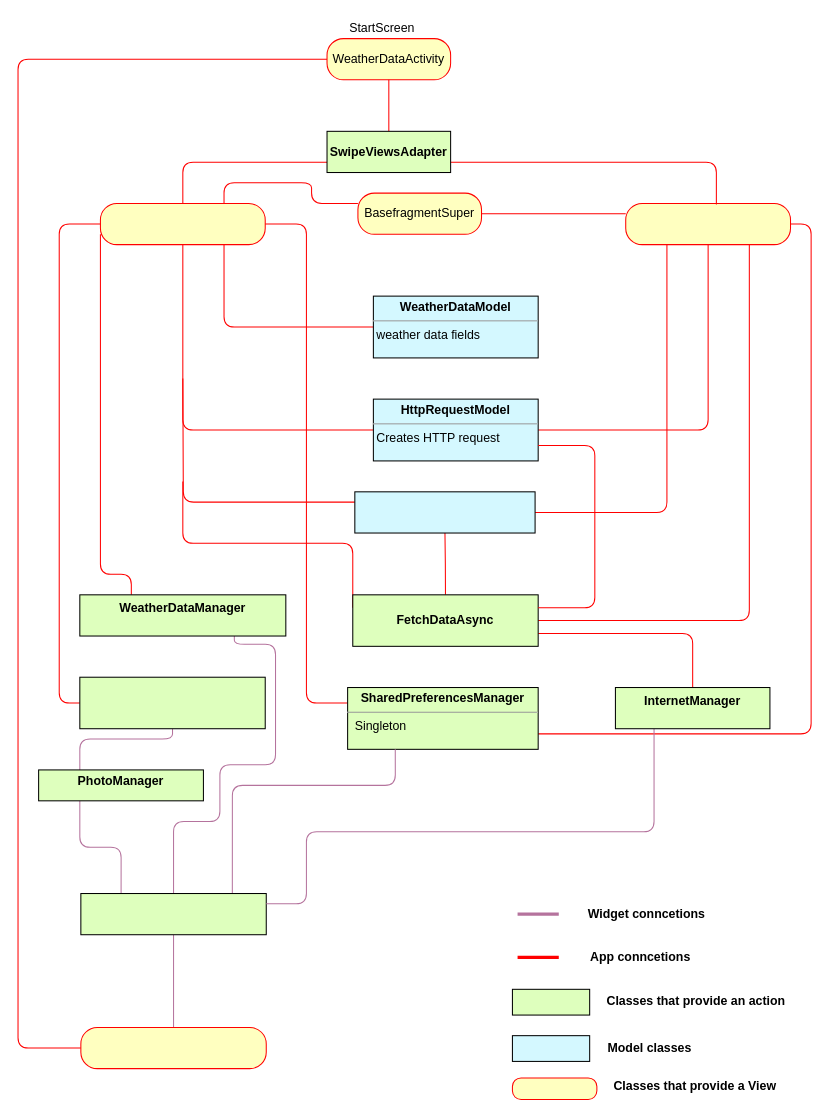
Image size: 830x1118. Some labels were removed from this diagram. The box of each missing label's shape, as (x1, y1, x2, y2) in pixels:
DownloadPhotoAsync: (79, 676, 265, 729)
GraphDataFragment: (625, 202, 791, 245)
MarsWeatherWidgetProvider: (80, 1026, 266, 1069)
ReturnDataRequestModel: (354, 491, 535, 533)
UpdateWidgetService: (80, 892, 266, 935)
WeatherDataFragment: (99, 202, 265, 245)
